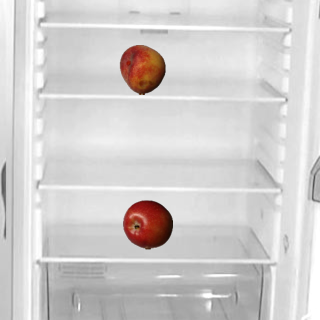Apple Braeburn: (122, 199, 172, 249)
Peach: (117, 44, 167, 94)
